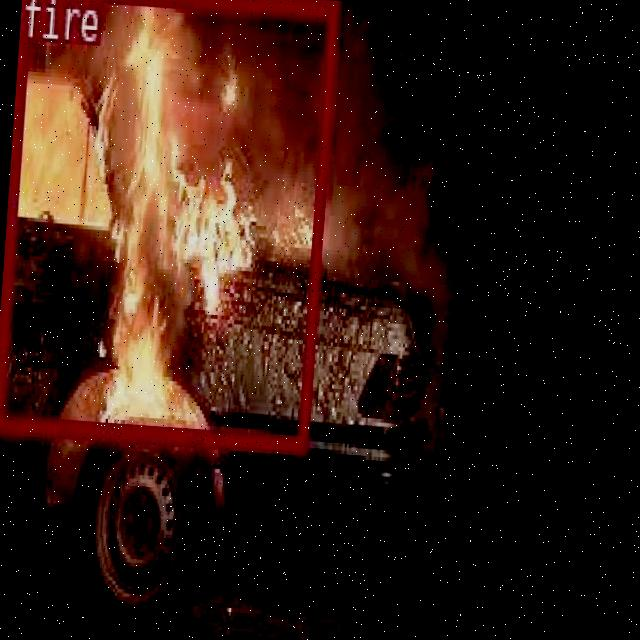fire: (0, 0, 337, 451)
